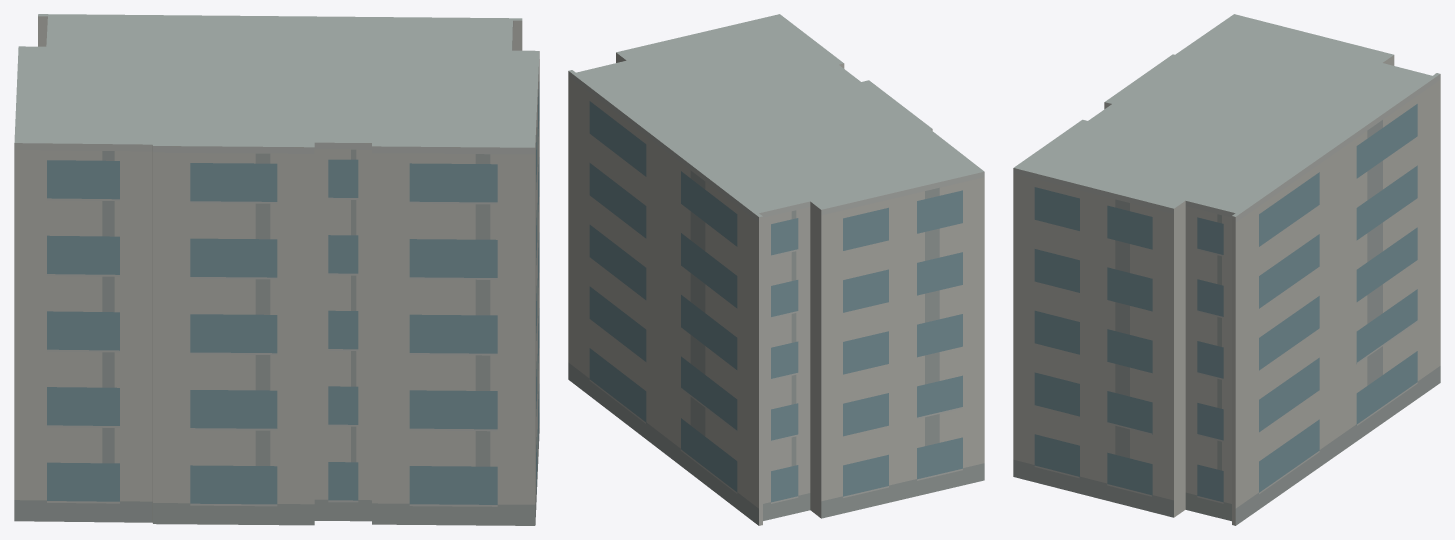
The model's file is survey-upis-32943114.glb.
3 views of the same model, side by side, from view 1: azimuth 30°, elevation 25°; view 2: azimuth 150°, elevation 25°; view 3: azimuth 270°, elevation 25° (orthographic). The views are drawn at different scales.
Visible parts, largest first — view 1: survey-upis-32943114.tmp; view 2: survey-upis-32943114.tmp; view 3: survey-upis-32943114.tmp.
Boxes of the visible parts, left/top/right/bottom form: survey-upis-32943114.tmp: left=14, top=14, right=539, bottom=525; survey-upis-32943114.tmp: left=568, top=14, right=984, bottom=525; survey-upis-32943114.tmp: left=1013, top=14, right=1440, bottom=525.
Size of the model in its own units: 19.02 by 13.5 by 16.92.
